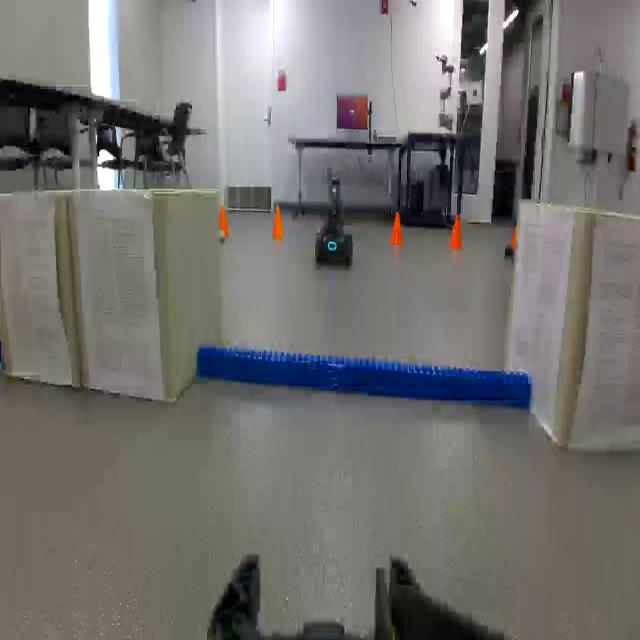cone: (448, 211, 466, 252), (389, 210, 406, 248), (269, 206, 285, 242), (217, 205, 230, 236)
river: (200, 342, 530, 422)
robot: (315, 175, 353, 269)
storage cube: (60, 184, 227, 410), (506, 205, 640, 469), (0, 191, 76, 391)
